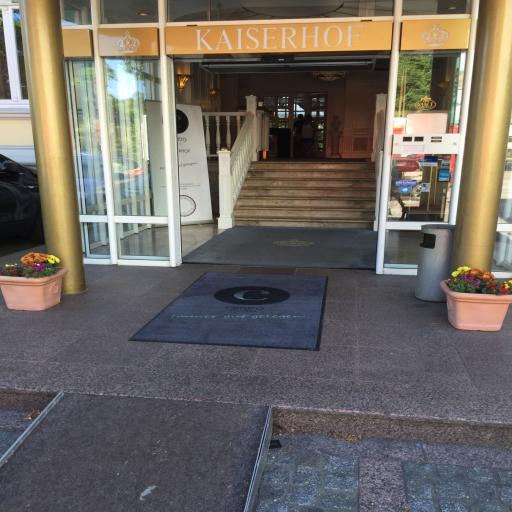ramp: (0, 388, 273, 512)
stairs: (236, 160, 378, 227)
